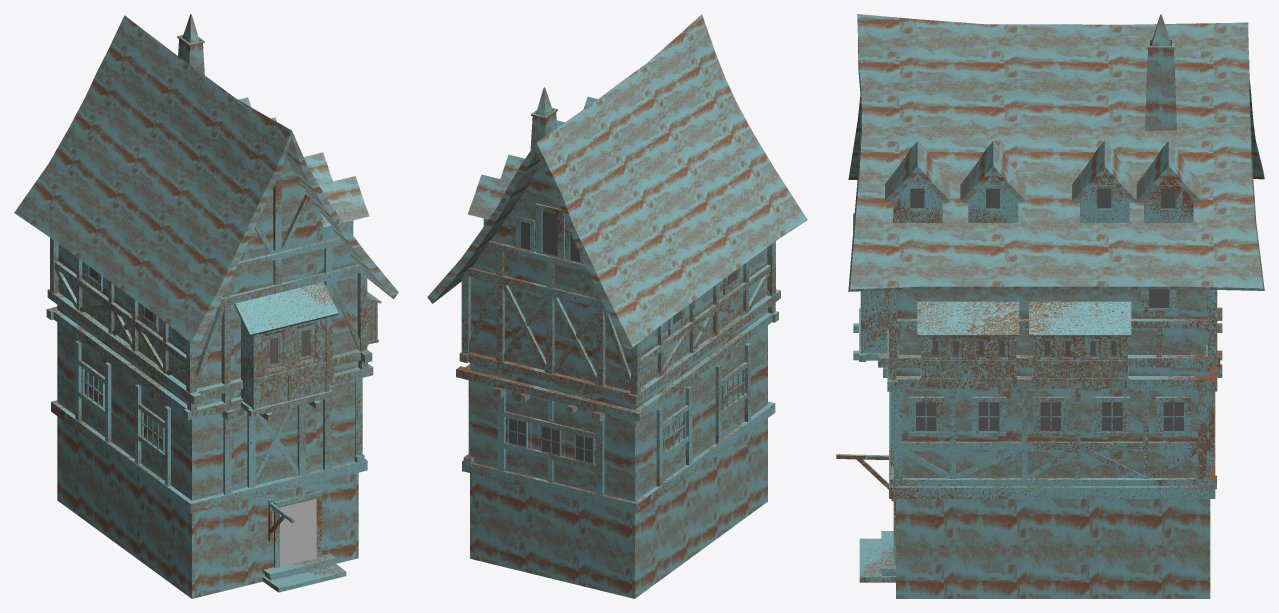
File: zawar_house1.FBX
The picture shows the model from 3 angles, left to right: view 1: azimuth 30°, elevation 25°; view 2: azimuth 150°, elevation 25°; view 3: azimuth 270°, elevation 25°; orthographic projection. The views are drawn at different scales.
Parts seen in each view (by area): view 1: Object189, Bottom, Object183, Object186, Object184, Object030, Object007, Object151, Door, Object013, Object031, zawarHouse (+26 smaller); view 2: Object189, Bottom, Object187, Object186, Object188, Object030, Windows, Object046, Object013, Object097, Object014, zawarHouse (+20 smaller); view 3: Object189, Bottom, Object185, Windows, Object158, Object030, Object067, Object068, Object111, Chimney, Object045, Object072 (+22 smaller).
Part boxes in pixels (box(x1,y1,x2,y2)): Object189: box(14, 15, 398, 346); Bottom: box(57, 416, 358, 598); Object183: box(192, 273, 358, 500); Object186: box(57, 244, 191, 500); Object184: box(230, 156, 356, 295); Object030: box(51, 400, 367, 513); Object007: box(241, 318, 325, 408); Object151: box(234, 282, 338, 336); Door: box(280, 498, 316, 566); Object013: box(47, 289, 201, 404); Object031: box(262, 553, 346, 592); zawarHouse: box(55, 269, 375, 375); Object189: box(427, 14, 807, 350); Bottom: box(470, 418, 767, 598); Object187: box(470, 276, 634, 501); Object186: box(635, 247, 767, 501); Object188: box(472, 162, 596, 297); Object030: box(462, 401, 775, 513); Windows: box(509, 211, 736, 462); Object046: box(456, 366, 643, 421); Object013: box(628, 289, 780, 404); Object097: box(468, 352, 630, 401); Object014: box(636, 313, 772, 415); zawarHouse: box(553, 272, 769, 377); Object189: box(848, 14, 1264, 291); Bottom: box(896, 499, 1210, 598); Object185: box(896, 289, 1210, 477); Windows: box(910, 188, 1183, 430); Object158: box(893, 172, 1193, 222); Object030: box(889, 391, 1215, 498); Object067: box(917, 301, 1019, 336); Object068: box(1029, 301, 1131, 336); Object111: box(897, 376, 1207, 388); Chimney: box(1145, 14, 1176, 130); Object045: box(890, 475, 1216, 489); Object072: box(902, 441, 1198, 449).
Bounding box in the file's own units: 8.79 × 18.13 × 12.72.
